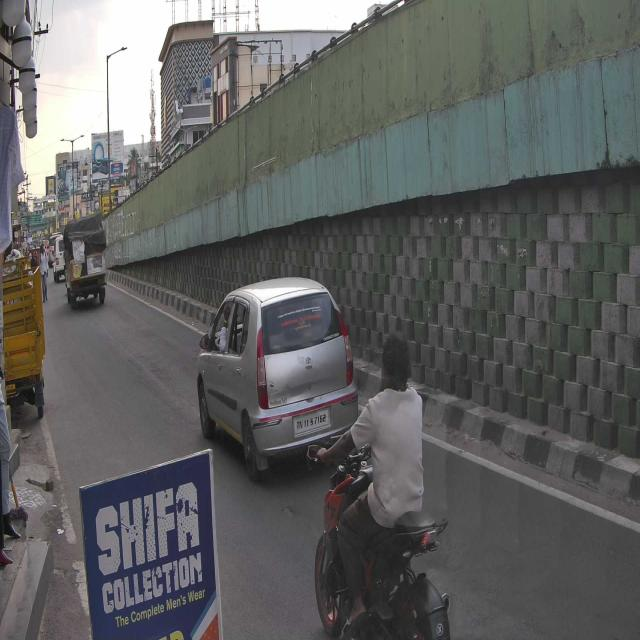single_rider: (307, 332, 459, 640)
